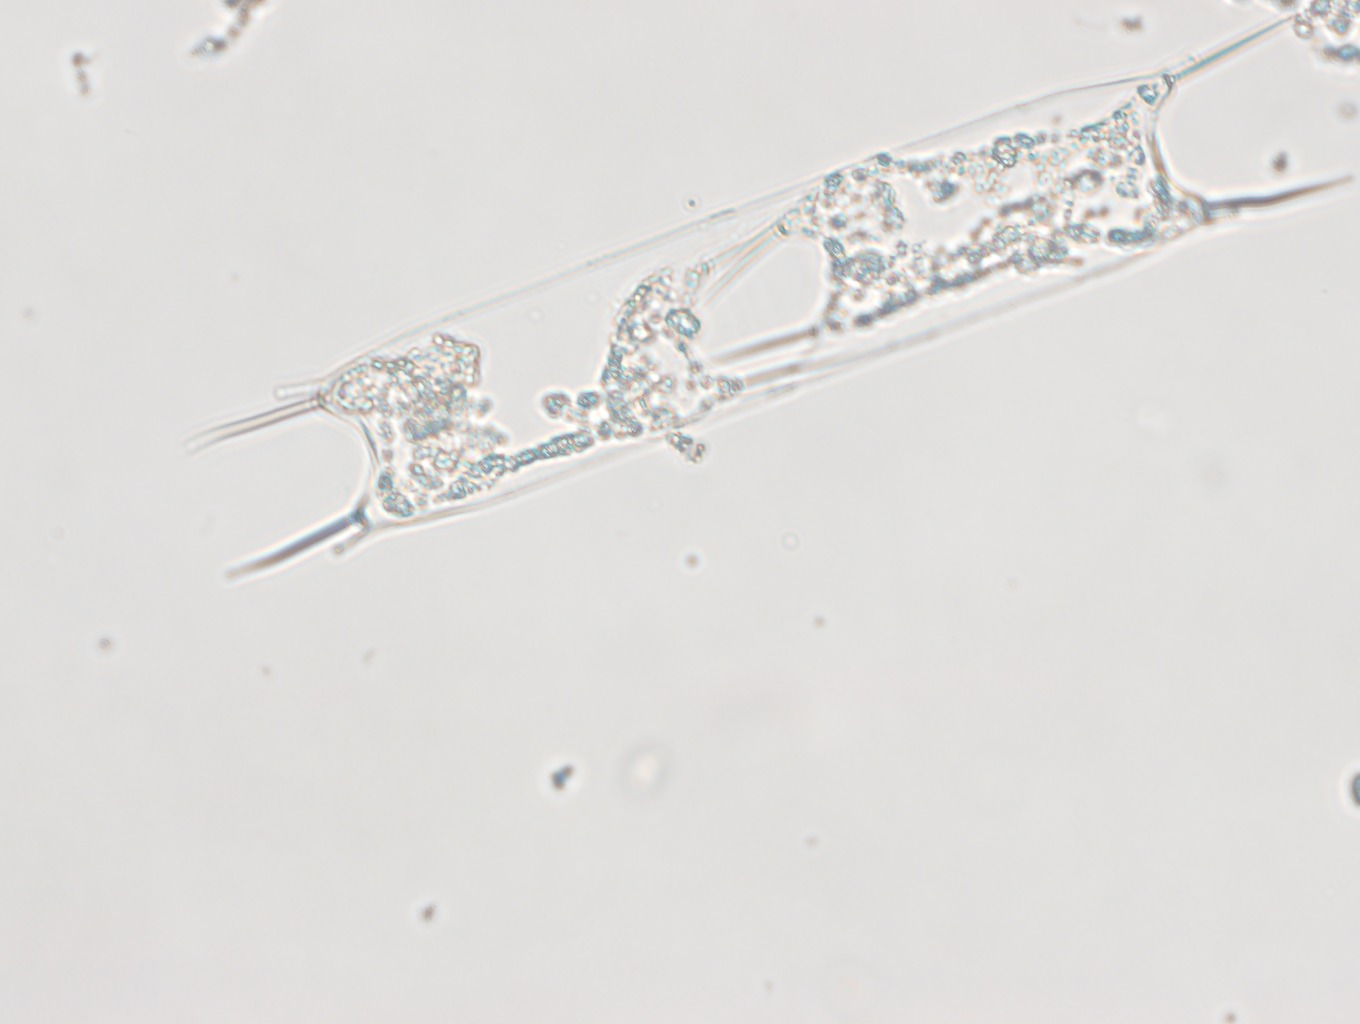biddulphia: (178, 11, 1359, 586)
